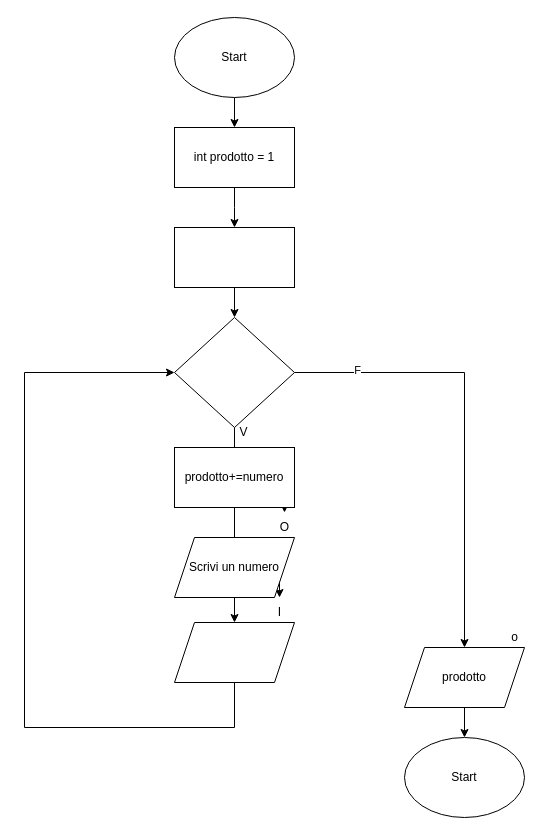
Some shapes in this 547 by 835 pixel diagram are drawn without their labels. The shapes that lost their labels are listed below. From the top down, each one's centre as x and y in pixels, then its label:
[234,257]: numero=1
[234,372]: numero!=-1
[234,652]: numero
